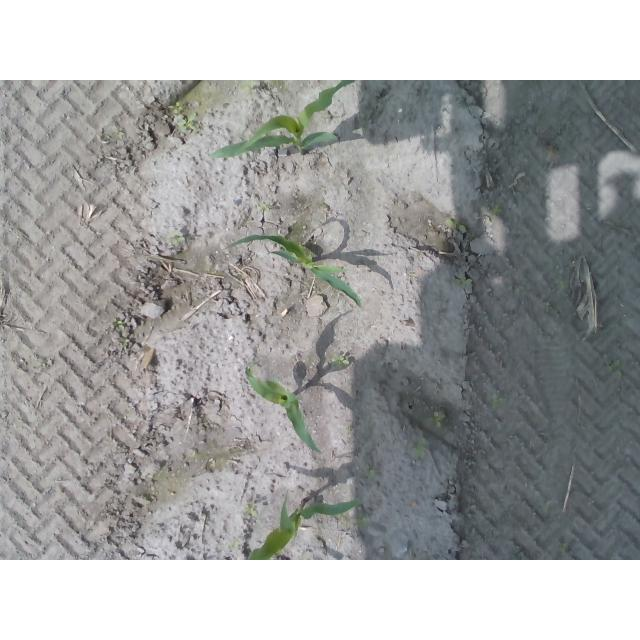Maize: (208, 80, 361, 160), (224, 234, 365, 310), (247, 492, 365, 561), (245, 366, 323, 455)
Weeds: (166, 100, 186, 114), (452, 276, 476, 286), (447, 218, 466, 230), (332, 355, 349, 368), (430, 414, 445, 428), (109, 318, 124, 331), (414, 443, 427, 457), (244, 505, 257, 514), (183, 119, 194, 129)
